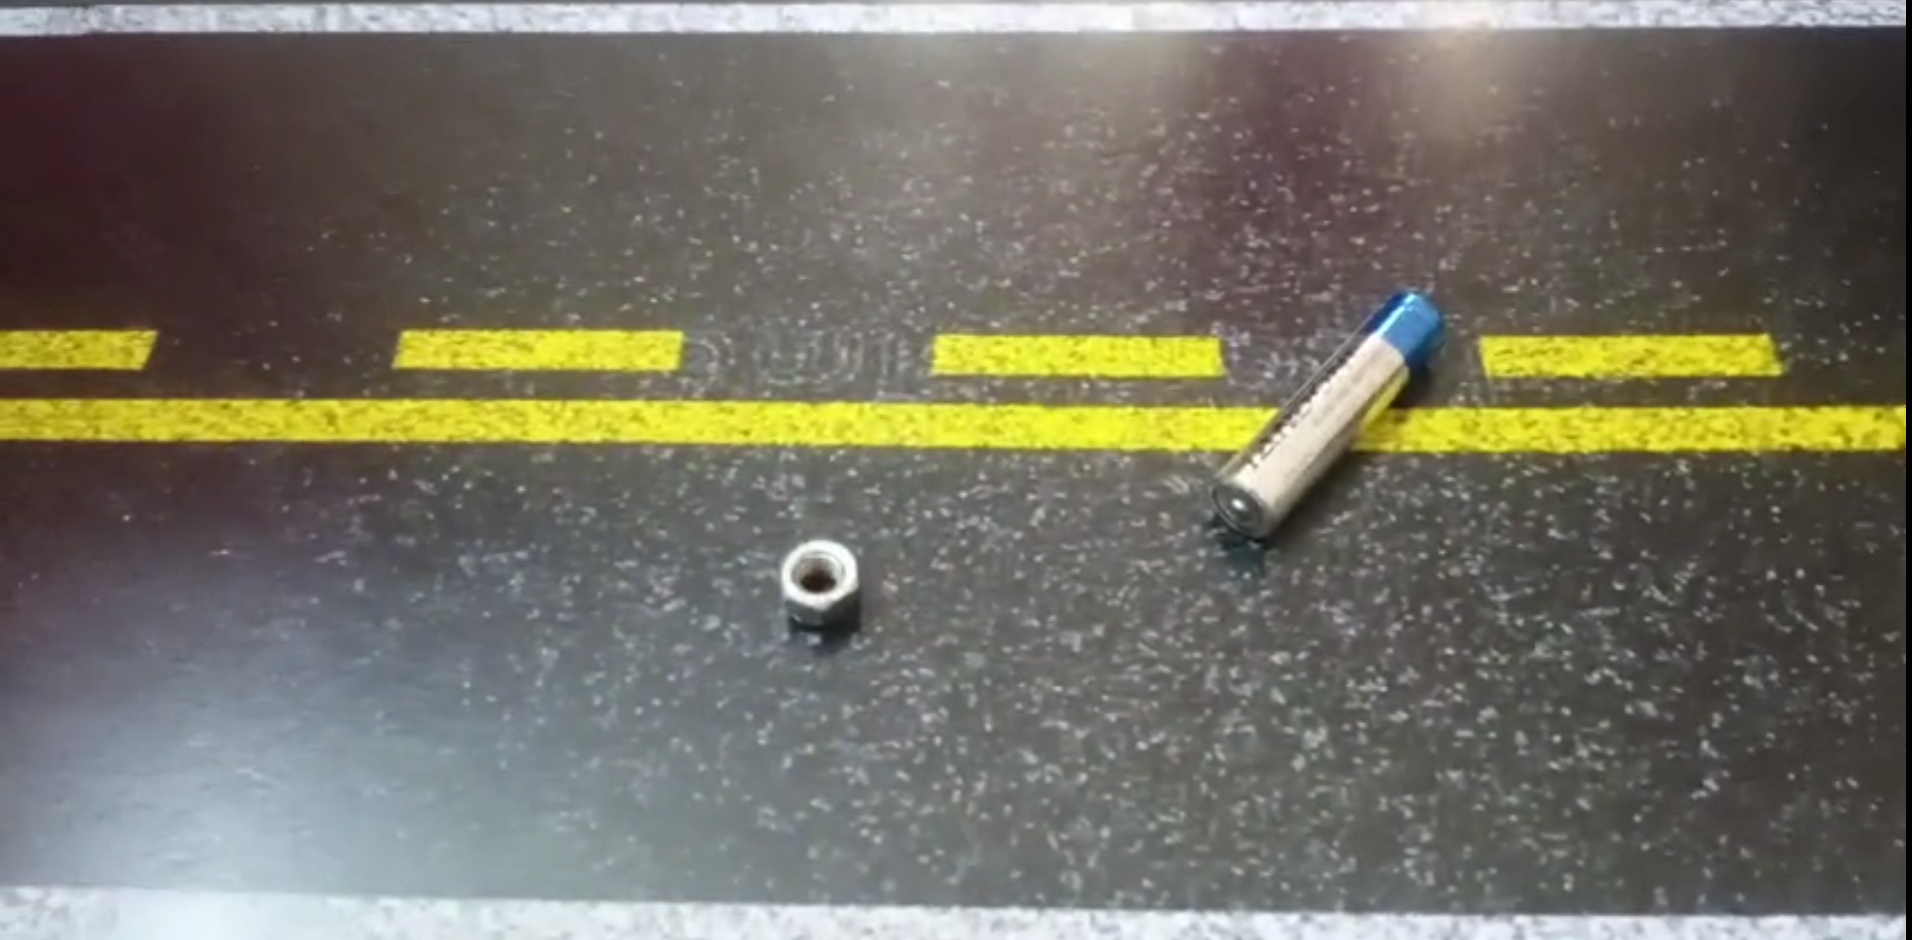metal: (1199, 284, 1455, 556), (774, 536, 868, 636)
